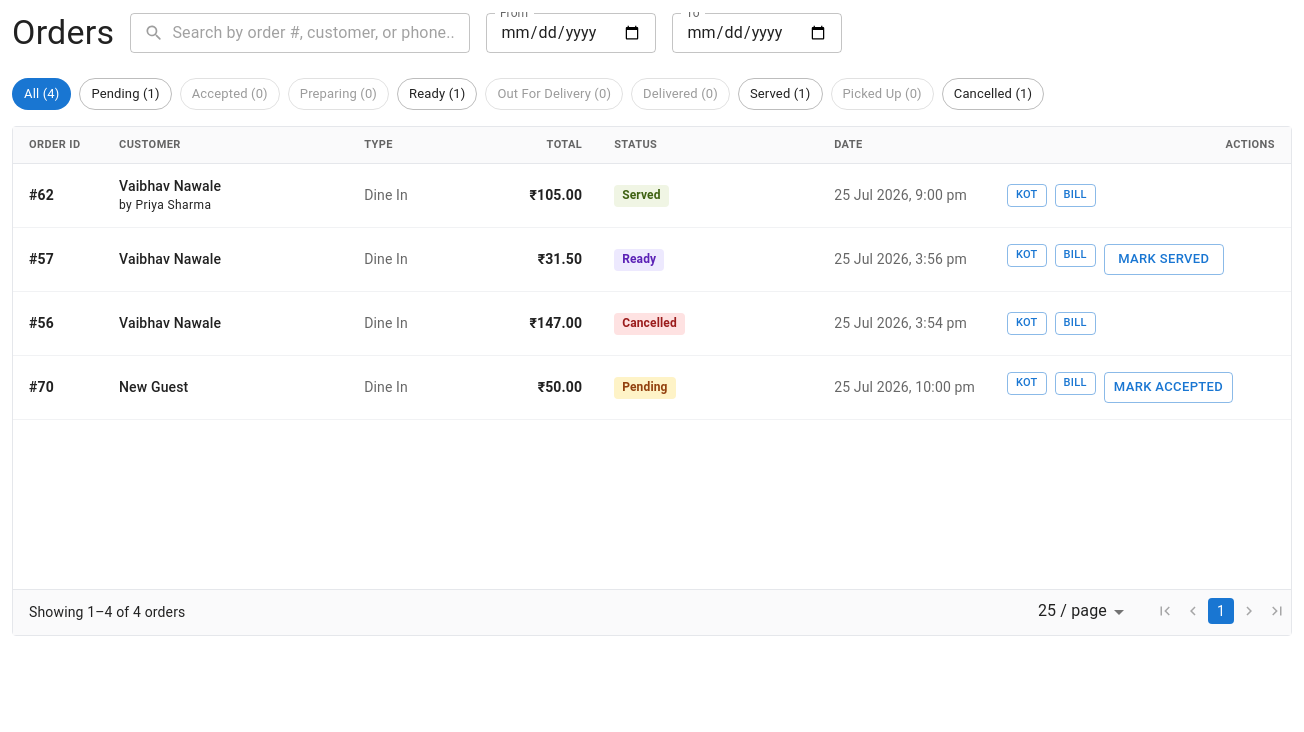
Test: Orders - search and status filter › filters by order id or customer name (debounced, server-side)
The image size is (1304, 732).
expect the text "#62" is shown: met, box [13,164,103,228]
expect the text "#70" is shown: met, box [13,356,103,420]
Type "70" into the field with placeholder "Search by order #, customer, or phone..." at x=321, y=33, box [172,13,470,53]
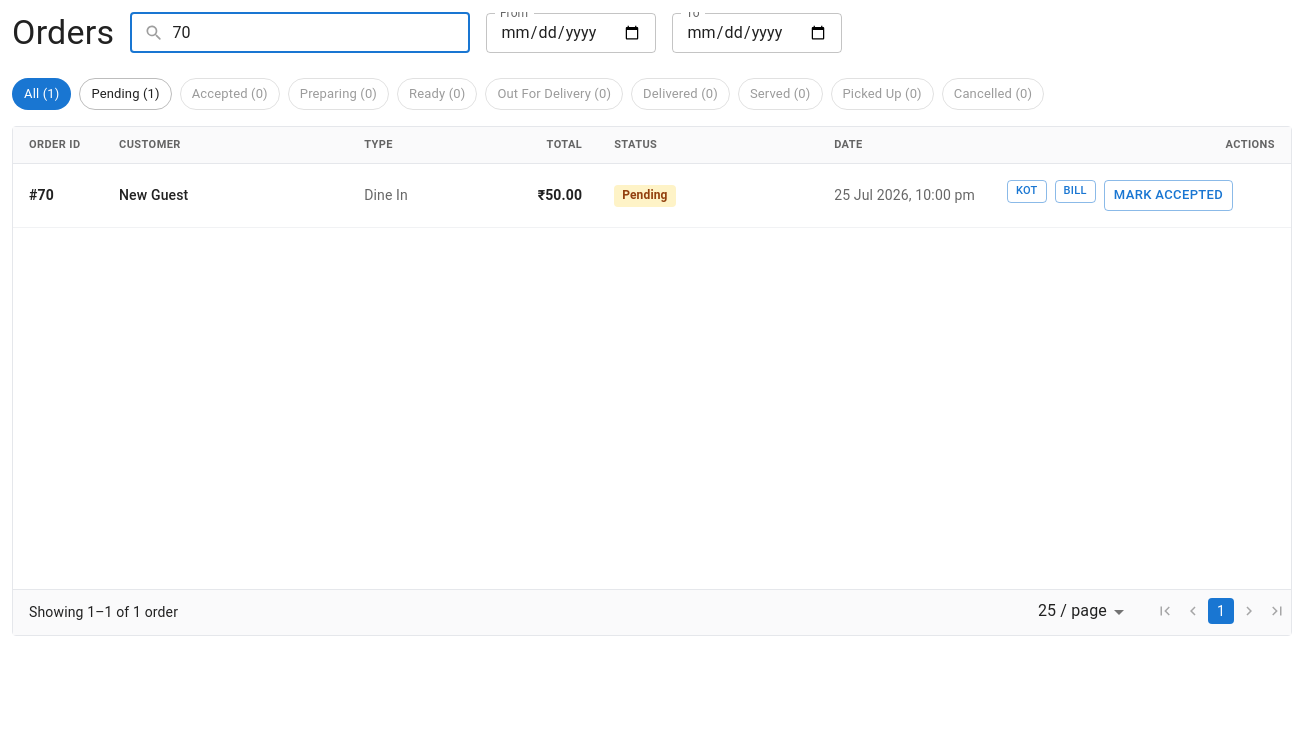
expect the text "#70" is shown: met, box [13,164,103,228]
expect the text "#62" is gone: met
